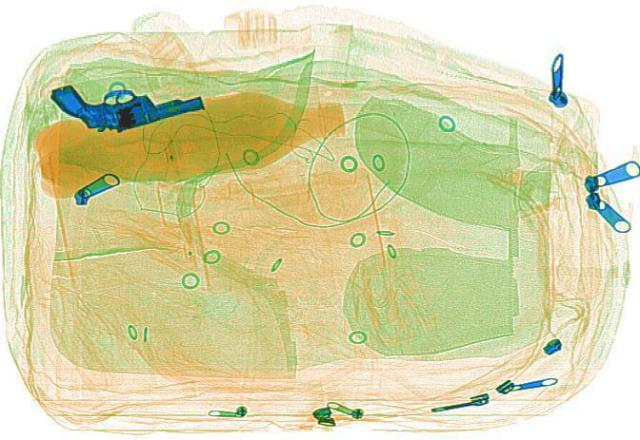Gun: (44, 76, 208, 133)
